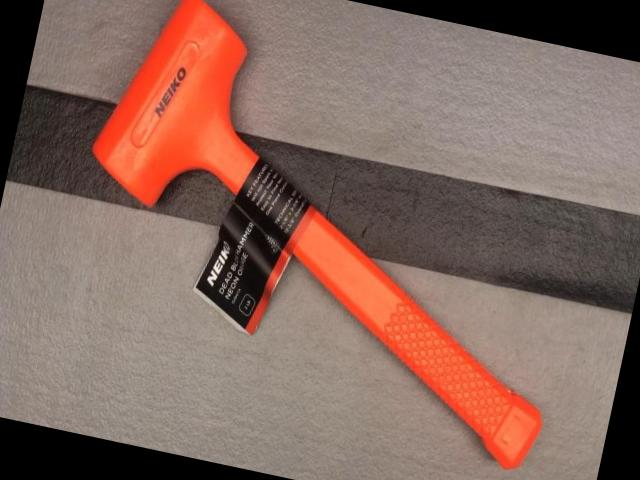hammer: (44, 0, 614, 473)
